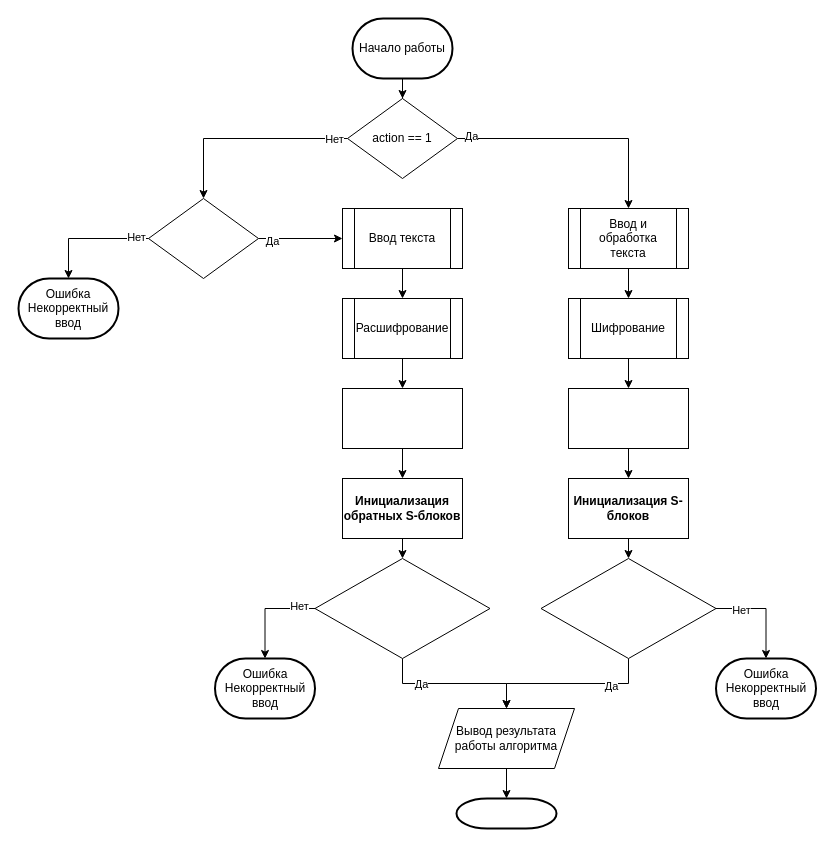
Image size: 834x846. Some labels were removed from this diagram. The centre of each missing label's shape, as x and y in pixels:
action == 2: pixel 203 238
Вычисление : decrypted_text += reversed_s_blocks[номер блока][ element ]: pixel 402 608
Вычисление : encrypted_text += s_blocks[номер блока][ element ]: pixel 628 608
Инициализация : decrypted_text = "": pixel 402 418
Инициализация : encrypted_text = "": pixel 628 418
Конец работы: pixel 506 813
